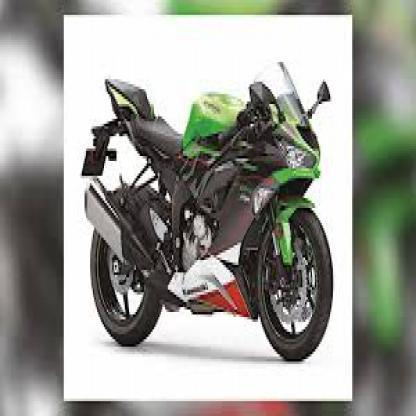Motorcycle: (80, 50, 338, 366)
